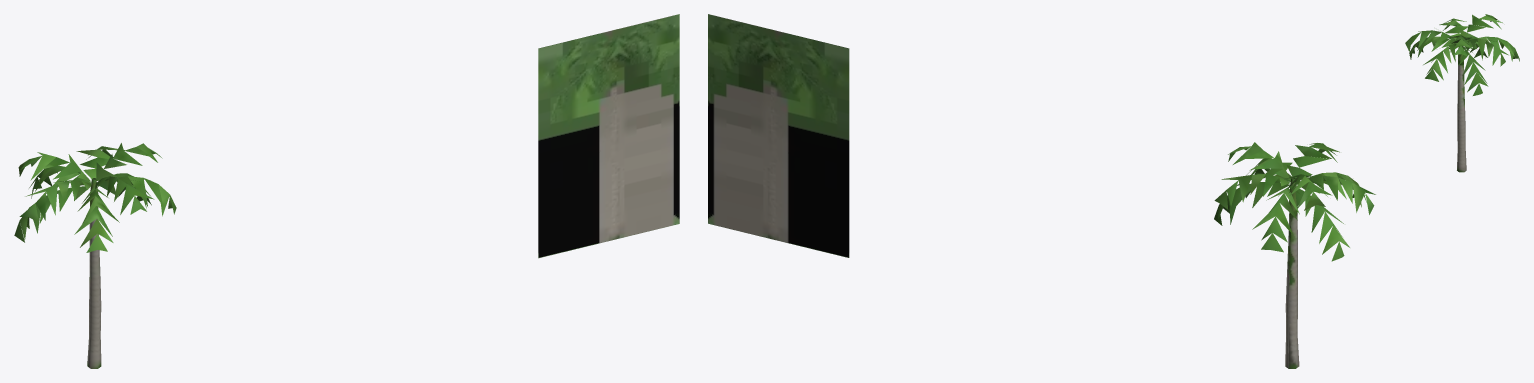
Rendered from tree_palm.glb.
The picture shows the model from 3 angles, left to right: view 1: azimuth 30°, elevation 25°; view 2: azimuth 150°, elevation 25°; view 3: azimuth 270°, elevation 25°; orthographic projection. The views are drawn at different scales.
Parts seen in each view (by area): view 1: tree_palm_IMPOSTOR, tree_palm_LOD0; view 2: tree_palm_IMPOSTOR, tree_palm_LOD0; view 3: tree_palm_LOD0.
Part boxes in pixels (x1,y1,x2,y2): tree_palm_IMPOSTOR: (538, 14, 679, 258); tree_palm_LOD0: (14, 143, 176, 368); tree_palm_IMPOSTOR: (708, 14, 849, 257); tree_palm_LOD0: (1214, 142, 1375, 368); tree_palm_LOD0: (1405, 14, 1519, 172).
Size of what is drawn, in the model's own units: 149 by 45.35 by 32.31.
2 materials, 2 textured.
